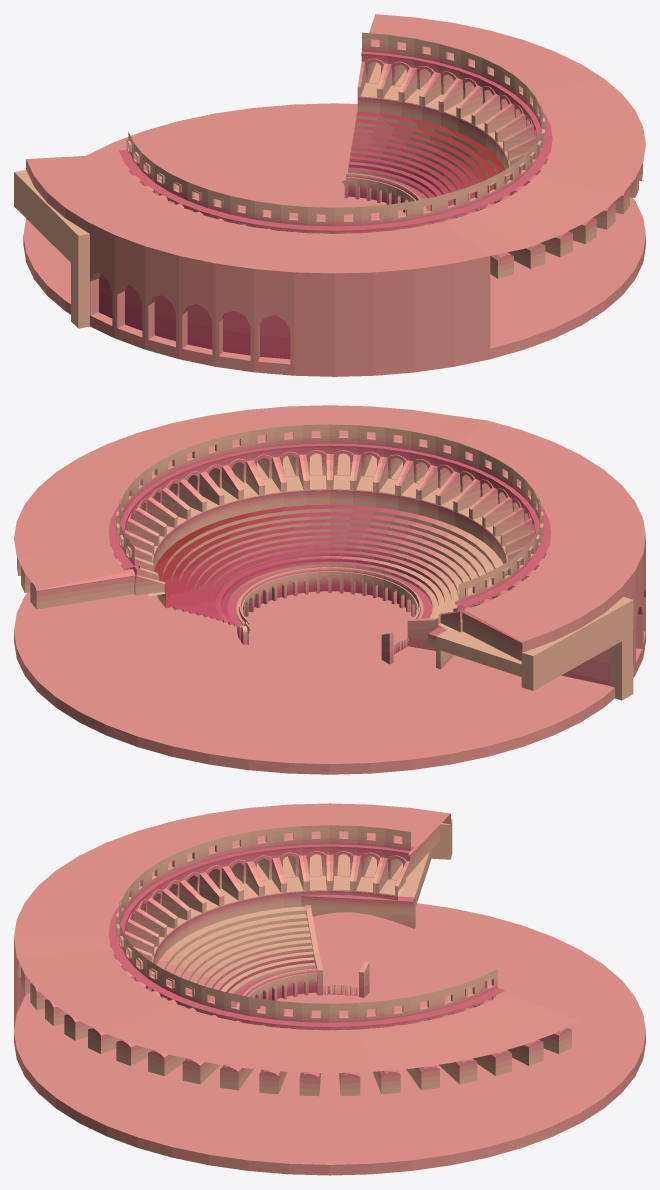
File: Colosseum3.fbx
3 renders of one model, top to bottom at view 1: azimuth 30°, elevation 25°; view 2: azimuth 150°, elevation 25°; view 3: azimuth 270°, elevation 25°, orthographic.
Visible parts, largest first — view 1: Colosseum; view 2: Colosseum; view 3: Colosseum.
Boxes of the visible parts, box(x1,y1,x2,y2) form: Colosseum: box(14, 14, 645, 376); Colosseum: box(14, 405, 645, 774); Colosseum: box(14, 803, 645, 1175).
Size of the model in its own units: 21974 by 4821 by 21652.
